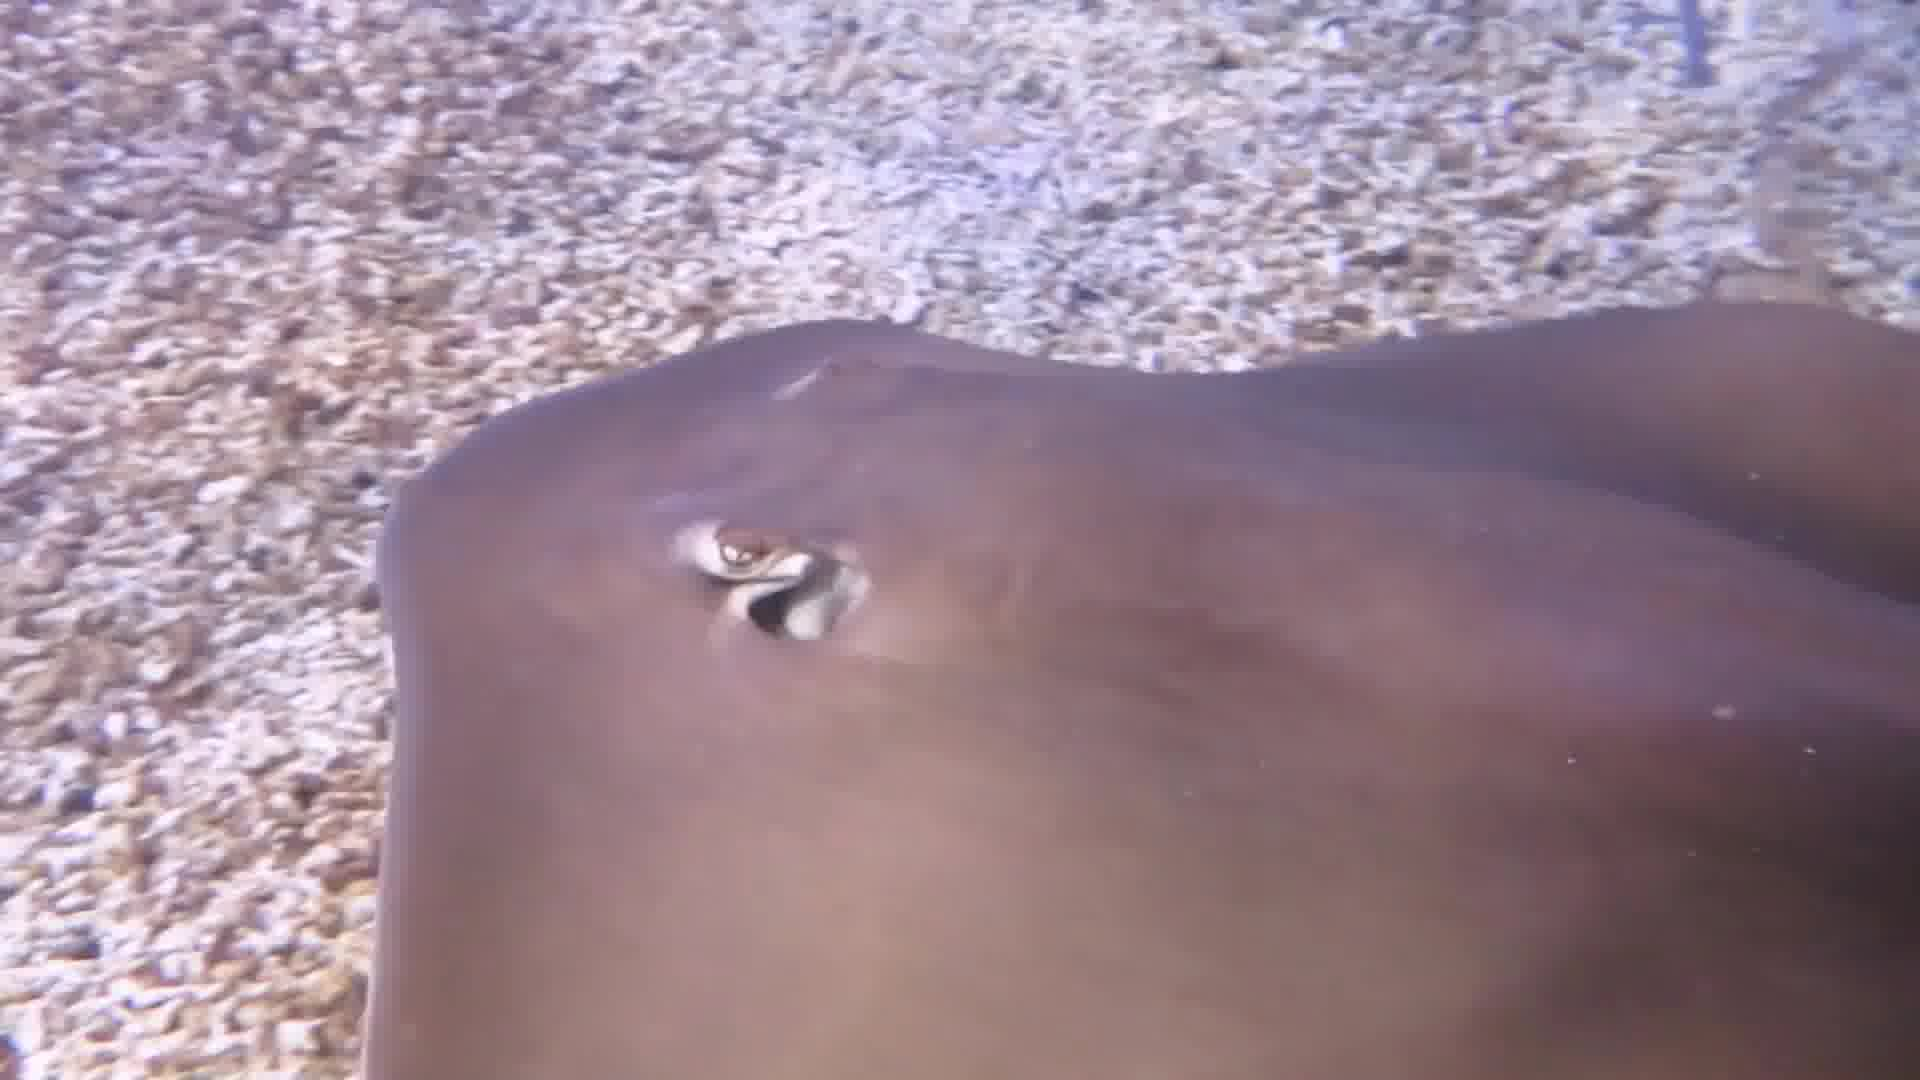Dasyatis akajei: (349, 284, 1920, 1080)
